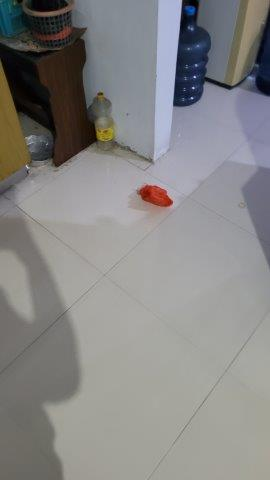plastik: (135, 183, 174, 211)
